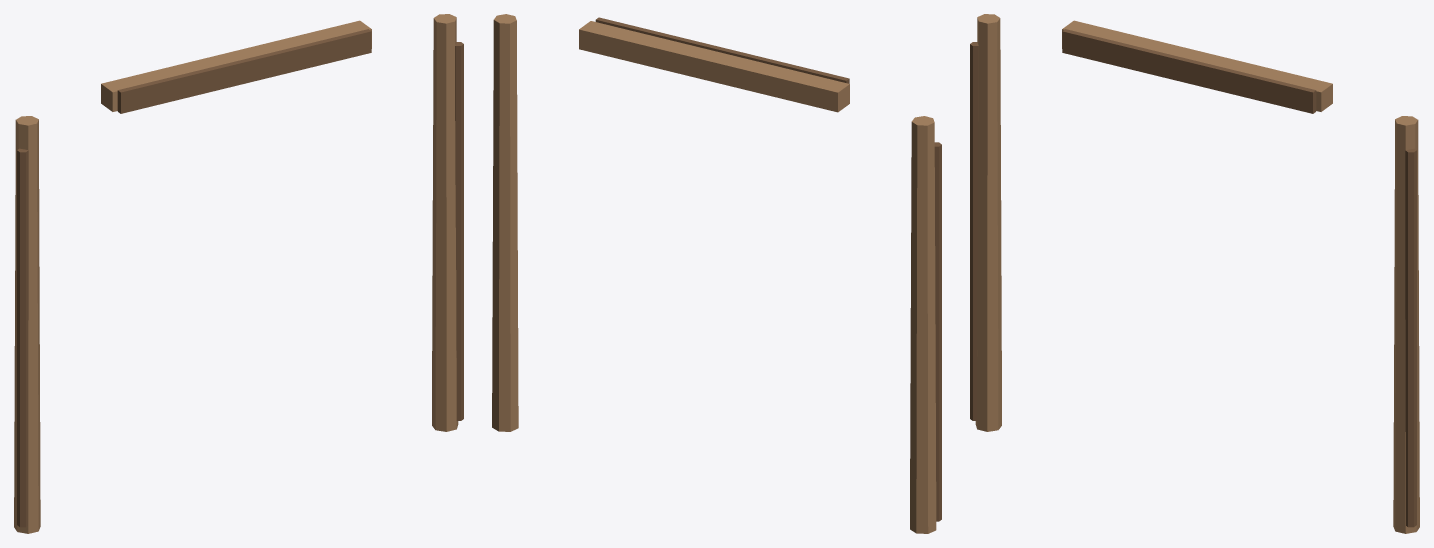
Rendered from cave_support_01.glb.
3 renders of one model, left to right at view 1: azimuth 30°, elevation 25°; view 2: azimuth 150°, elevation 25°; view 3: azimuth 330°, elevation 25°, orthographic.
Parts seen in each view (by area): view 1: cave_support_01; view 2: cave_support_01; view 3: cave_support_01.
Boxes of the visible parts, x1,y1,x2,y2 form: cave_support_01: (14, 14, 463, 533); cave_support_01: (492, 14, 941, 533); cave_support_01: (970, 14, 1419, 533).
Bounding box in the file's own units: 2.82 × 2.56 × 0.1825.
